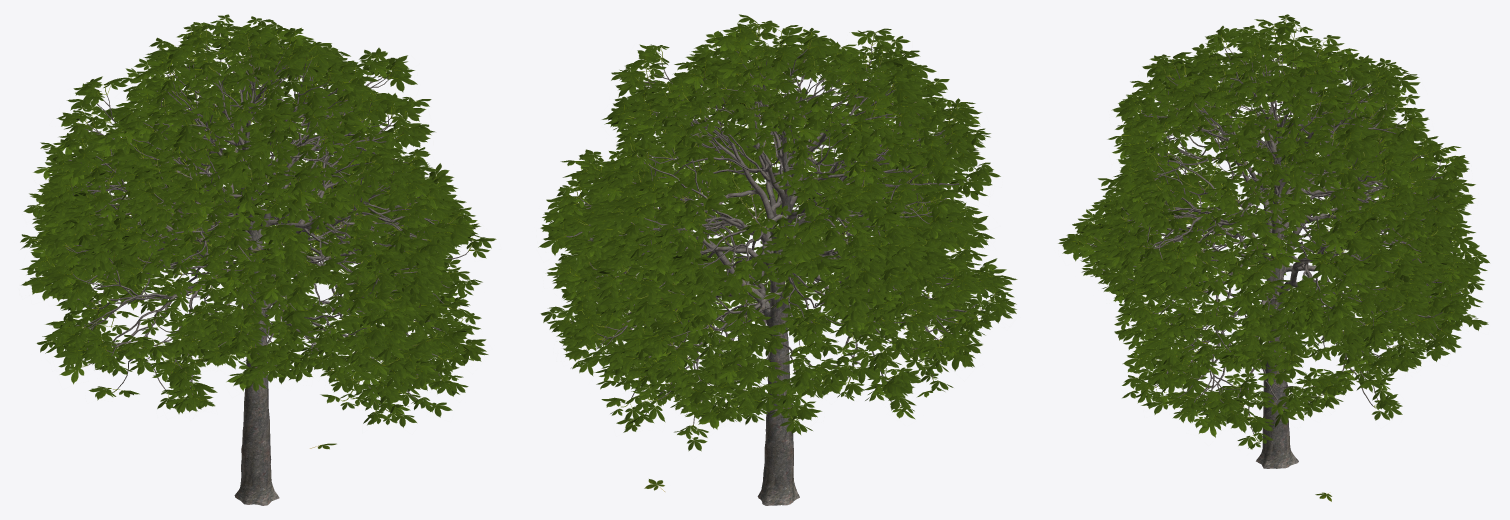
Rendered from marronnier-1.glb.
3 views of the same model, side by side, from view 1: azimuth 30°, elevation 25°; view 2: azimuth 150°, elevation 25°; view 3: azimuth 270°, elevation 25° (orthographic). The views are drawn at different scales.
Visible parts, largest first — view 1: Aesculus_X_carnea_HD; view 2: Aesculus_X_carnea_HD; view 3: Aesculus_X_carnea_HD.
Boxes of the visible parts, left/top/right/bottom form: Aesculus_X_carnea_HD: left=20, top=14, right=496, bottom=505; Aesculus_X_carnea_HD: left=538, top=14, right=1017, bottom=505; Aesculus_X_carnea_HD: left=1058, top=14, right=1489, bottom=501.
Size of the model in its own units: 8.38 by 8.55 by 8.24.
Materials: 9 (8 with a texture image).
